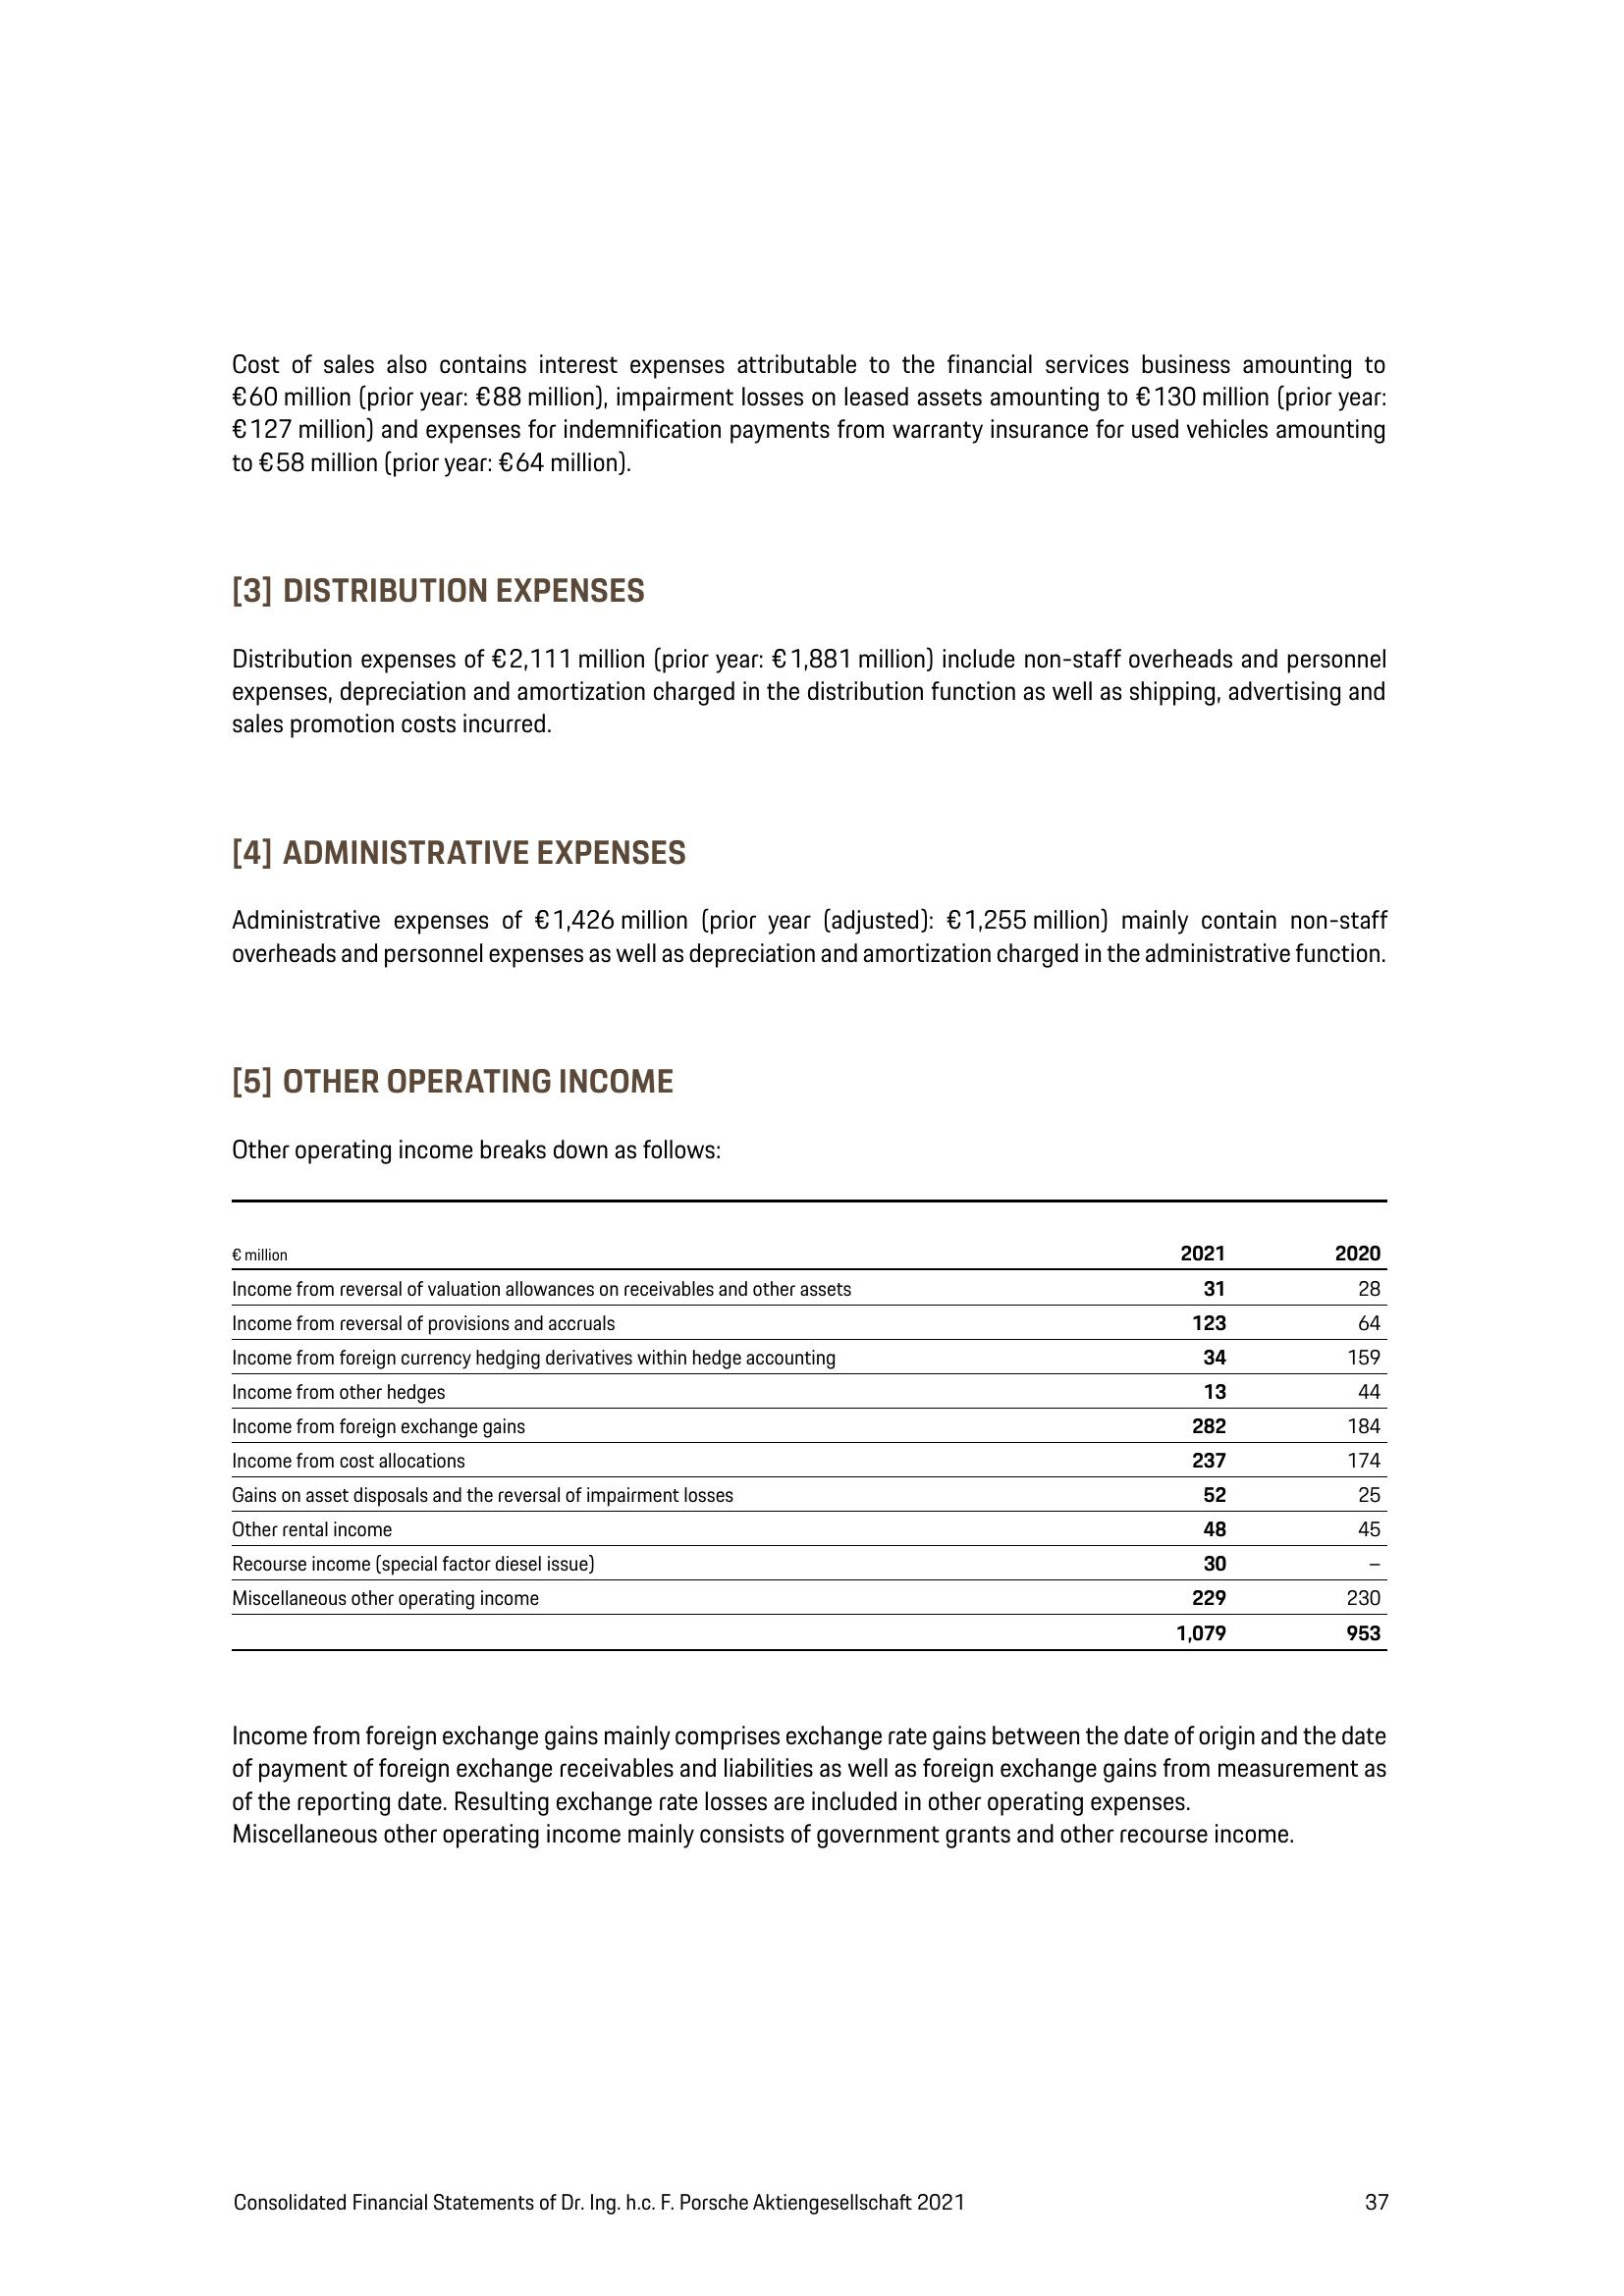Footer: (5, 2148, 1624, 2296)
Header: (0, 0, 1624, 202)
Table: (190, 1223, 1443, 1648)
